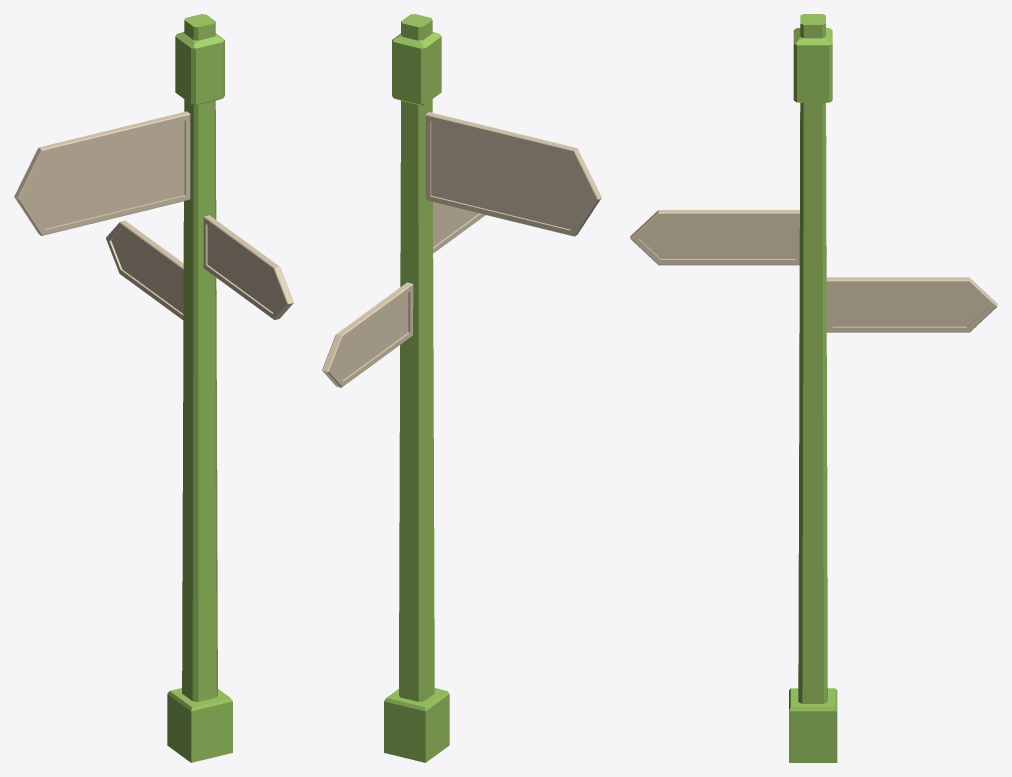
Rendered from streetsign_a.gltf.
The picture shows the model from 3 angles, left to right: view 1: azimuth 30°, elevation 25°; view 2: azimuth 150°, elevation 25°; view 3: azimuth 270°, elevation 25°; orthographic projection.
Parts seen in each view (by area): view 1: streetsign_a001; view 2: streetsign_a001; view 3: streetsign_a001.
Boxes of the visible parts, x1,y1,x2,y2 form: streetsign_a001: [14, 14, 293, 762]; streetsign_a001: [322, 14, 601, 762]; streetsign_a001: [630, 14, 997, 762].
Size of the model in its own units: 0.5649 by 1.92 by 0.8721.
Materials: 1 (1 with a texture image).
